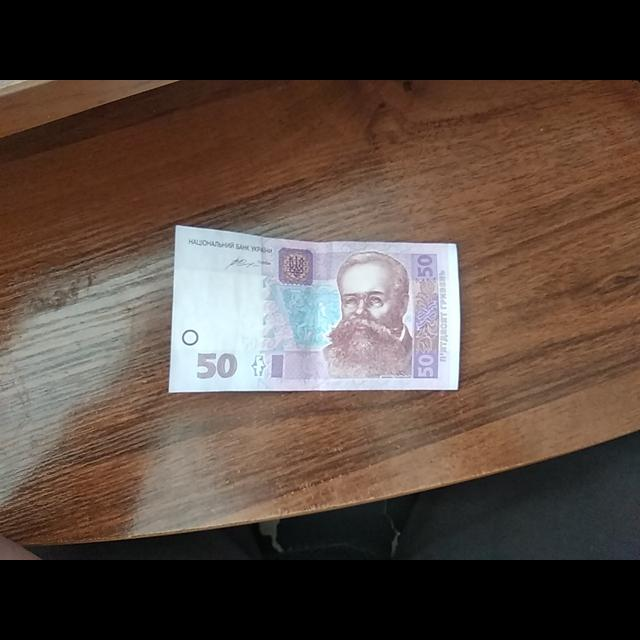50uah: (169, 226, 456, 391)
